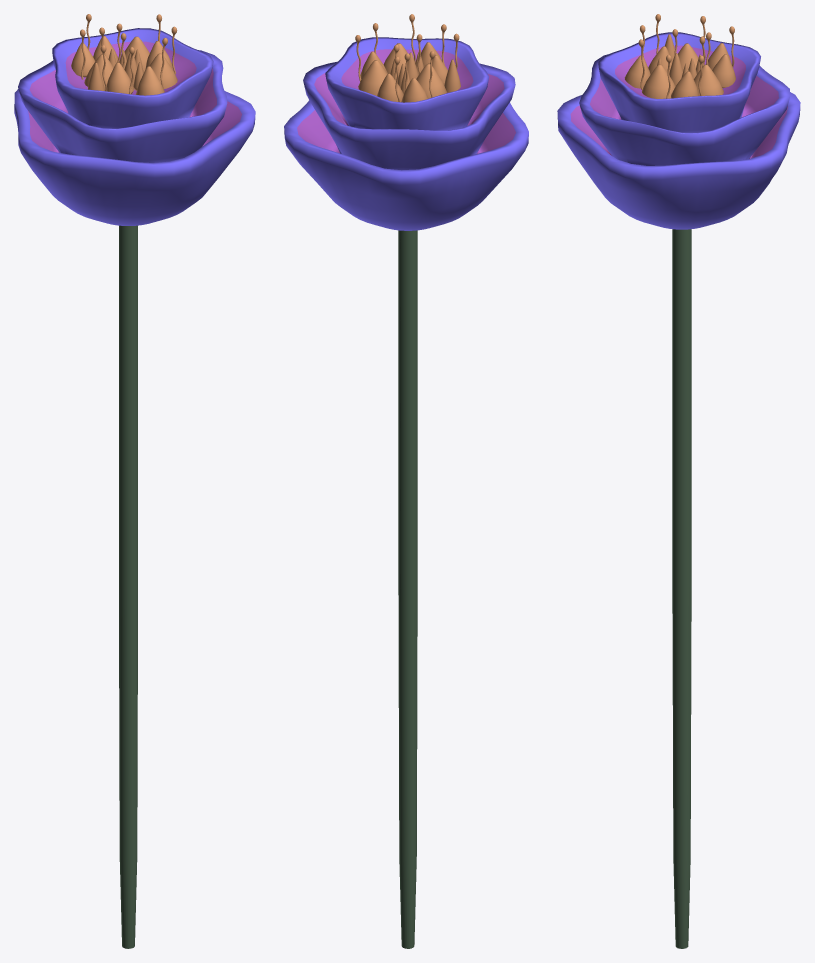
The model's file is floweradvancedfbxfc.fbx.
The picture shows the model from 3 angles, left to right: view 1: azimuth 30°, elevation 25°; view 2: azimuth 150°, elevation 25°; view 3: azimuth 270°, elevation 25°; orthographic projection.
Visible parts, largest first — view 1: polySurface2, polySurface1, pCylinder10, pCylinder4, pCylinder6; view 2: polySurface2, polySurface1, pCylinder8, pCylinder11; view 3: polySurface2, polySurface1, pCylinder6, pCylinder8.
Boxes of the visible parts, x1=… form: polySurface2: x1=14, y1=28, x2=255, y2=225; polySurface1: x1=119, y1=225, x2=137, y2=948; pCylinder10: x1=105, y1=62, x2=134, y2=94; pCylinder4: x1=135, y1=66, x2=164, y2=95; pCylinder6: x1=149, y1=53, x2=177, y2=88; polySurface2: x1=284, y1=37, x2=528, y2=230; polySurface1: x1=398, y1=230, x2=417, y2=948; pCylinder8: x1=358, y1=60, x2=387, y2=95; pCylinder11: x1=416, y1=63, x2=446, y2=98; polySurface2: x1=557, y1=32, x2=800, y2=229; polySurface1: x1=672, y1=229, x2=691, y2=948; pCylinder6: x1=642, y1=64, x2=675, y2=98; pCylinder8: x1=694, y1=64, x2=723, y2=95.
Bounding box in the file's own units: 7.65 × 31.81 × 7.65.
